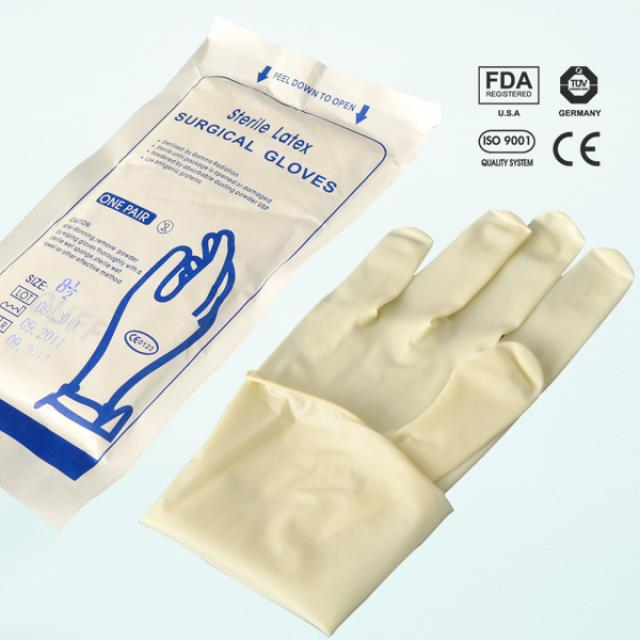Gloves: (296, 211, 635, 617)
